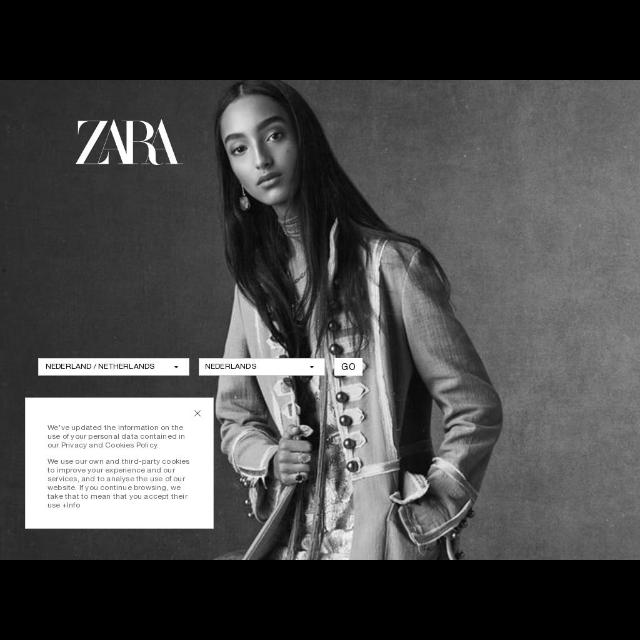backgroundimage: (2, 82, 638, 558)
icon: (192, 407, 202, 419), (308, 365, 316, 371), (172, 364, 180, 370)
iframe: (26, 398, 214, 528)
image: (75, 119, 183, 165)
spinner: (39, 359, 190, 375), (198, 358, 324, 374)
text: (48, 456, 190, 509), (48, 424, 184, 450), (46, 363, 154, 371), (203, 363, 259, 371), (340, 362, 356, 372)
textbutton: (25, 398, 215, 528), (336, 358, 362, 376)
